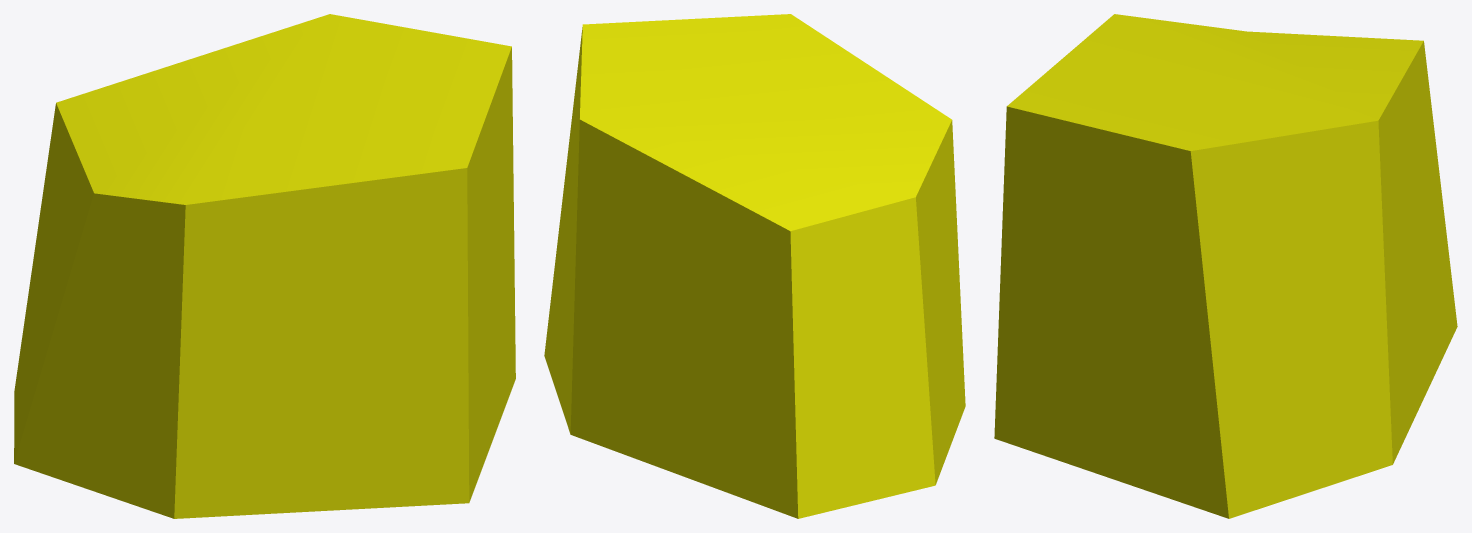
3 renders of one model, left to right at view 1: azimuth 30°, elevation 25°; view 2: azimuth 150°, elevation 25°; view 3: azimuth 270°, elevation 25°, orthographic. The views are drawn at different scales.
Visible parts, largest first — view 1: rock_05; view 2: rock_05; view 3: rock_05.
Boxes of the visible parts, x1,y1,x2,y2 form: rock_05: [14, 14, 515, 518]; rock_05: [544, 14, 965, 518]; rock_05: [994, 14, 1457, 518].
Bounding box in the file's own units: 2.75 × 2 × 2.35.
Materials: 1 (1 with a texture image).
